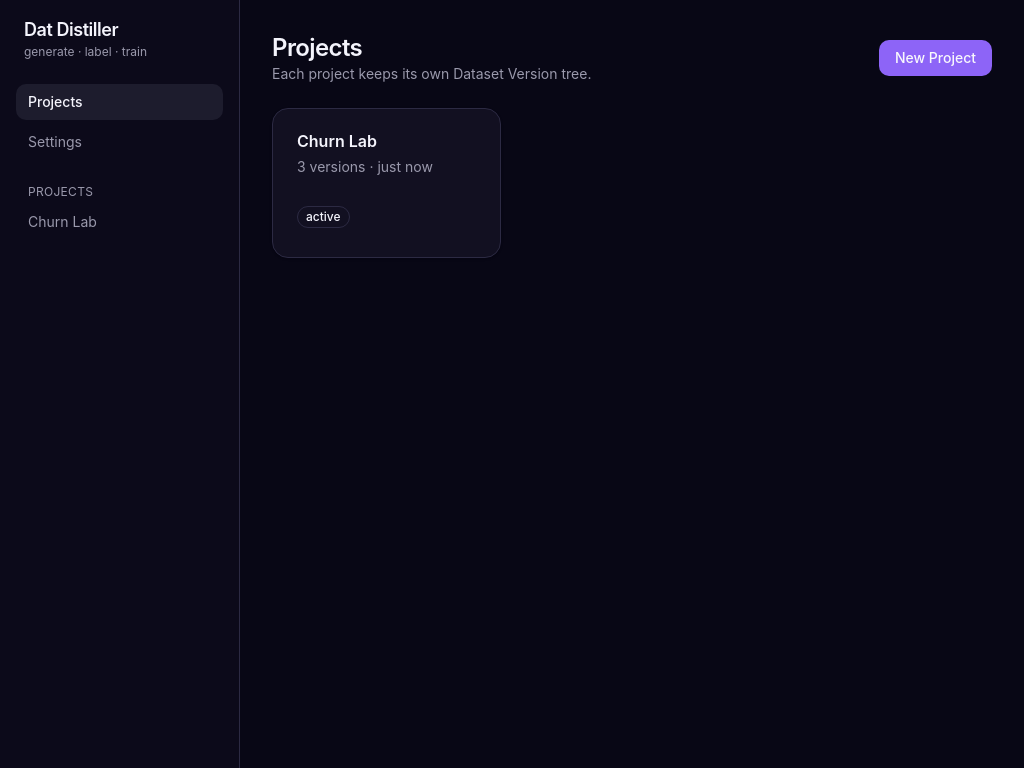
App shell › lists projects on the landing page and opens one
Click the 1st link "Churn Lab" at (337, 141), box [297, 131, 377, 151]
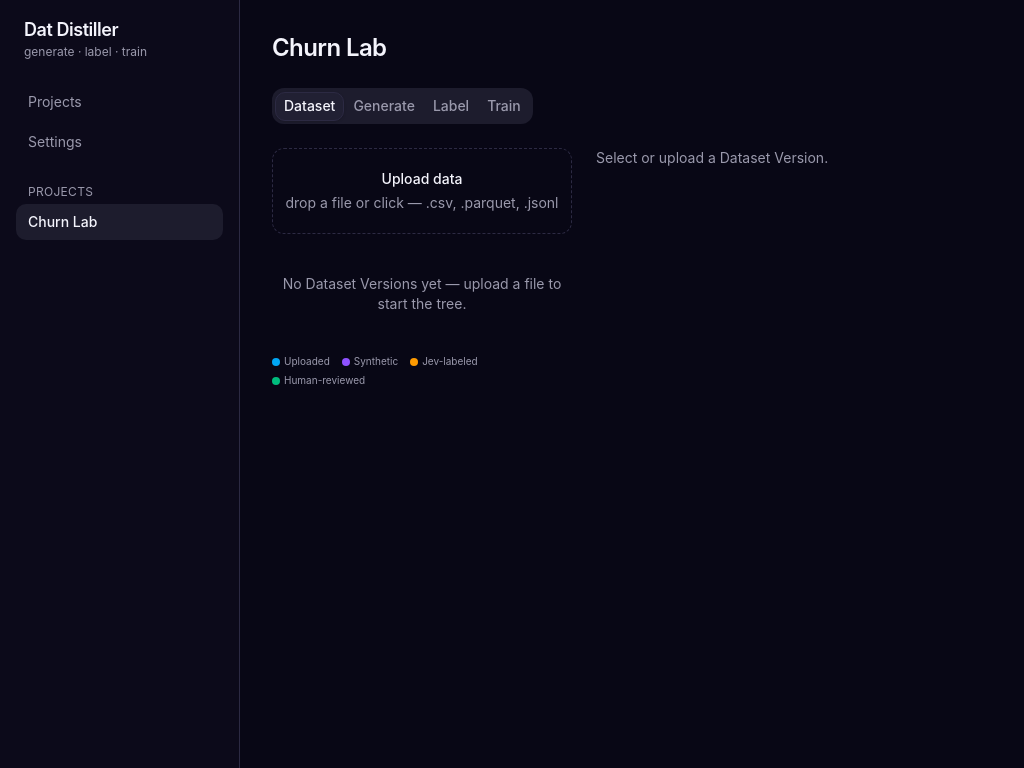
Expected: the heading "Churn Lab" is shown, [272, 32, 386, 64]
Expected: the tab "Dataset" is shown, [275, 92, 344, 120]
Expected: the tab "Generate" is shown, [344, 92, 424, 120]
